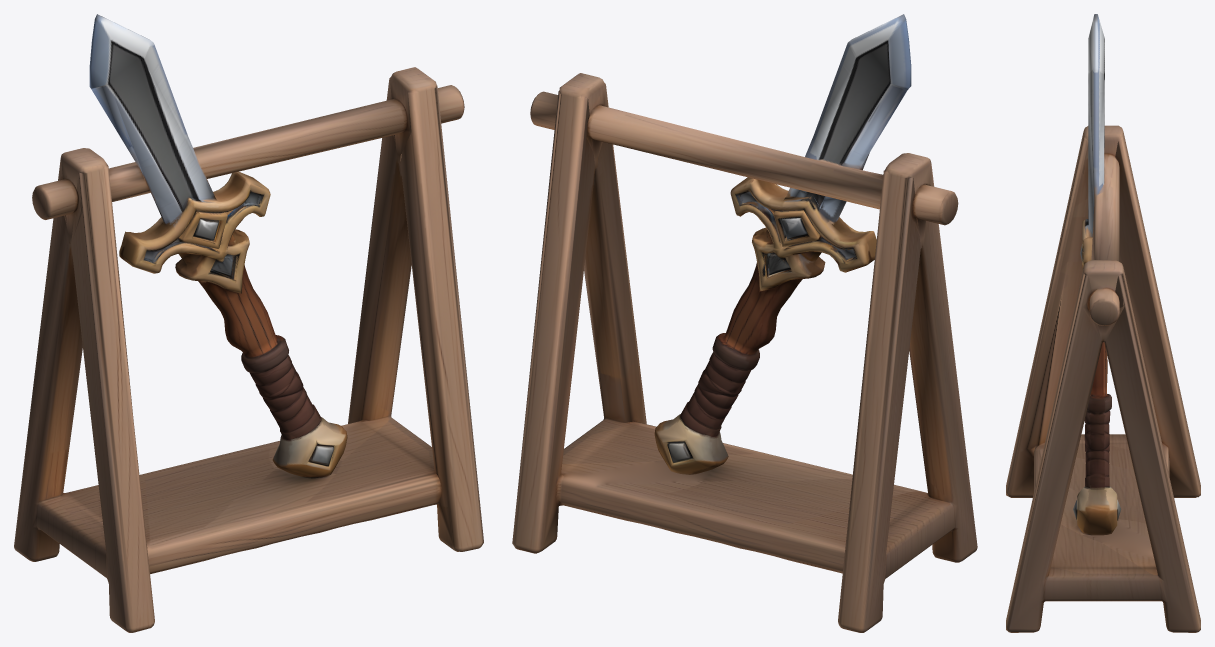
Rendered from wj_prop_weapon_rack.glb.
3 renders of one model, left to right at view 1: azimuth 30°, elevation 25°; view 2: azimuth 150°, elevation 25°; view 3: azimuth 270°, elevation 25°, orthographic. The views are drawn at different scales.
Parts seen in each view (by area): view 1: material; view 2: material; view 3: material.
Part boxes in pixels (bbox=[...]): material: bbox=[14, 14, 483, 632]; material: bbox=[512, 14, 977, 632]; material: bbox=[1006, 14, 1200, 632].
Bounding box in the file's own units: 1.14 × 1.5 × 0.5473.
1 material, 1 textured.
